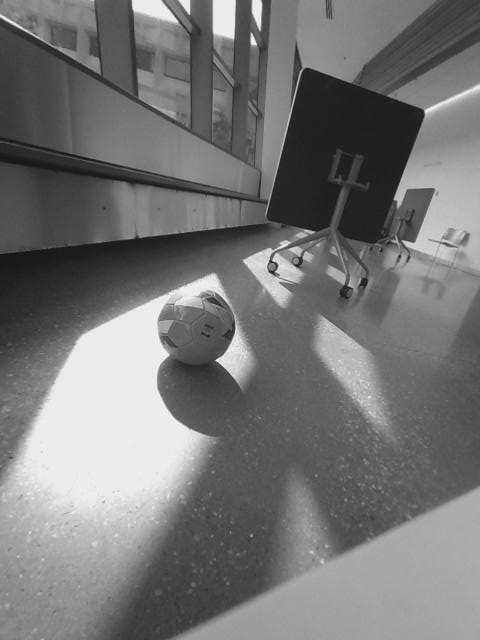ball: (153, 283, 239, 367)
